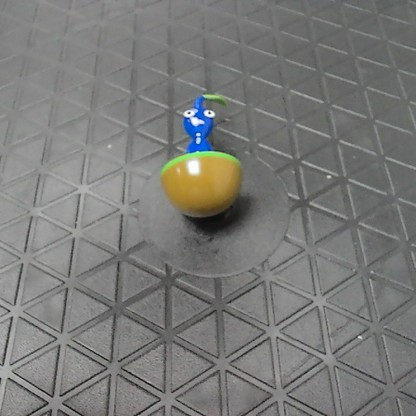leafairy: (153, 91, 245, 218)
